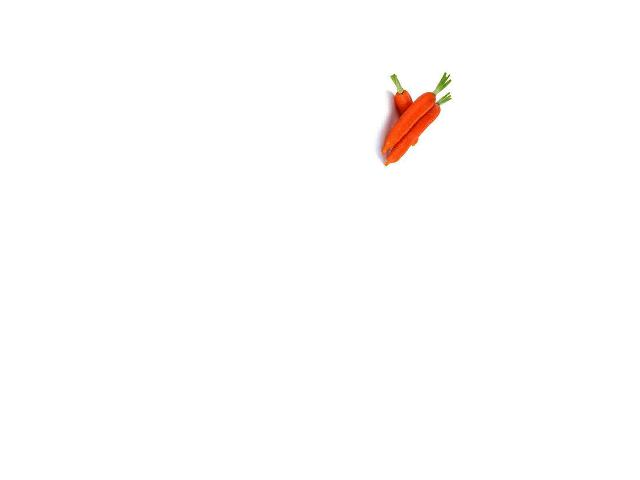carrot: (393, 77, 421, 153)
